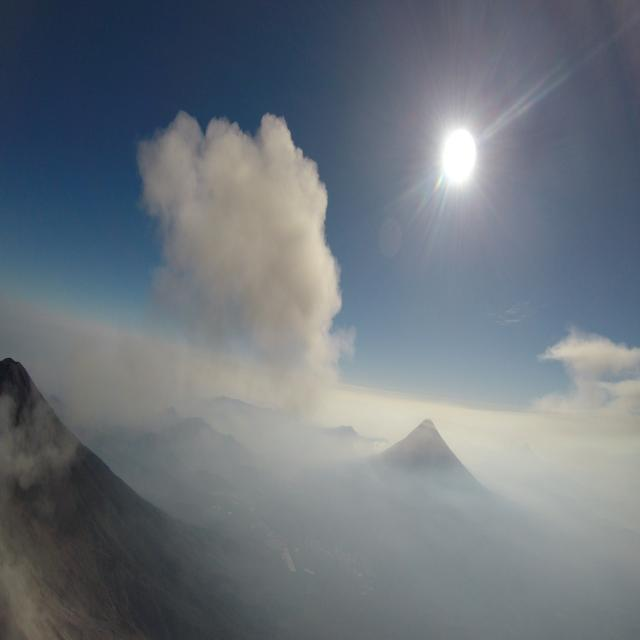Plume: (128, 97, 359, 422)
